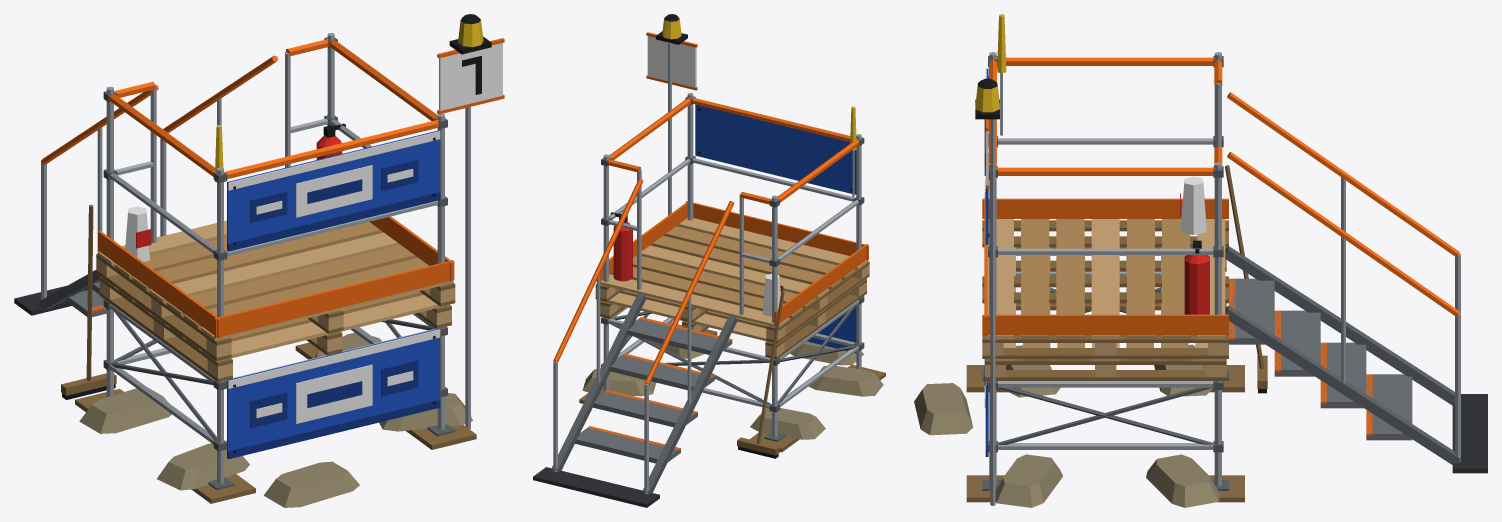
File: stand_pallet.glb
The picture shows the model from 3 angles, left to right: view 1: azimuth 30°, elevation 25°; view 2: azimuth 150°, elevation 25°; view 3: azimuth 270°, elevation 25°; orthographic projection. The views are drawn at different scales.
Visible parts, largest first — view 1: Stand_Pallet; view 2: Stand_Pallet; view 3: Stand_Pallet.
Part boxes in pixels (x1=…): Stand_Pallet: x1=14, y1=14, x2=504, y2=507; Stand_Pallet: x1=533, y1=14, x2=885, y2=507; Stand_Pallet: x1=914, y1=14, x2=1487, y2=507.
Size of the model in its own units: 2.17 by 2.65 by 3.26.
